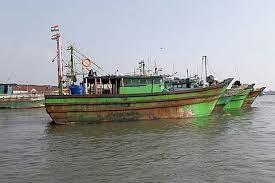fishing boat: (34, 27, 235, 127), (0, 75, 48, 109)
